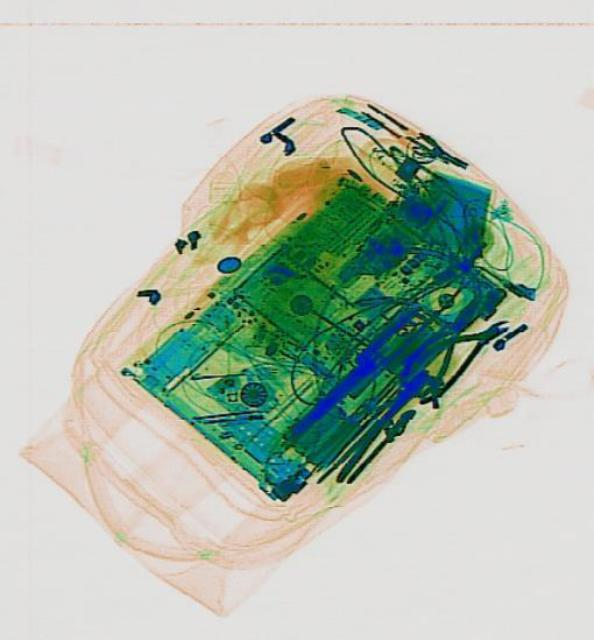Pliers: (393, 302, 518, 406)
